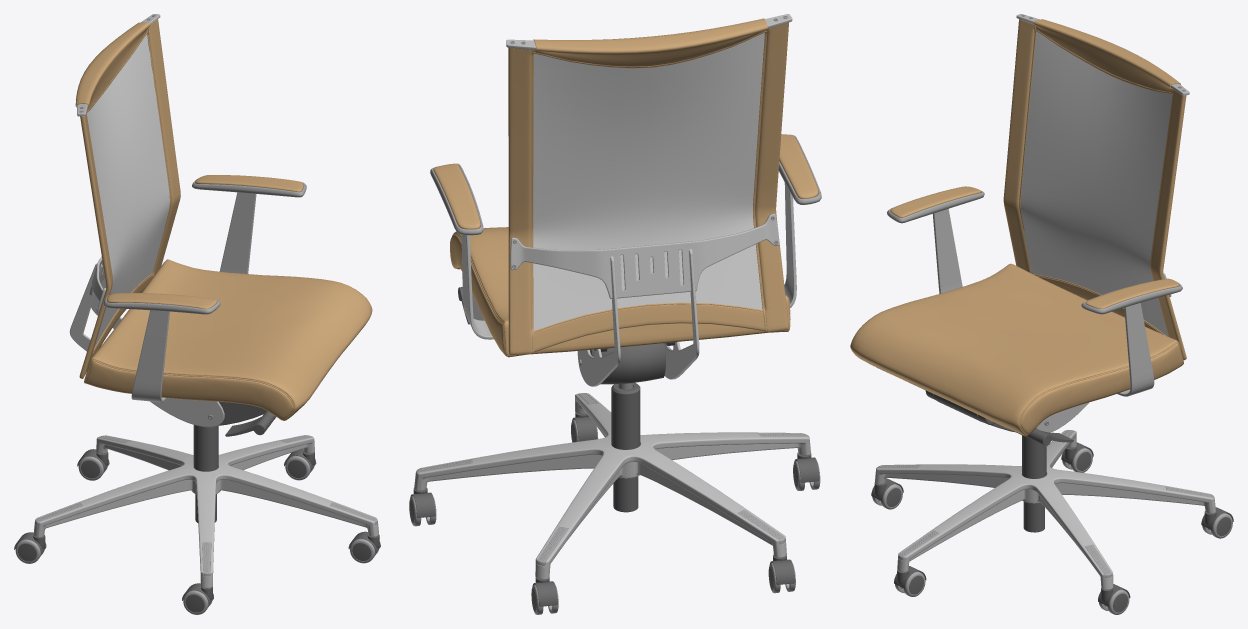
Rendered from demo.gltf.
3 views of the same model, side by side, from view 1: azimuth 30°, elevation 25°; view 2: azimuth 150°, elevation 25°; view 3: azimuth 270°, elevation 25° (orthographic). The views are drawn at different scales.
Parts seen in each view (by area): view 1: 办公椅07; view 2: 办公椅07; view 3: 办公椅07.
Boxes of the visible parts, x1,y1,x2,y2 form: 办公椅07: [14, 14, 380, 614]; 办公椅07: [409, 14, 821, 614]; 办公椅07: [850, 14, 1233, 614].
Size of the model in its own units: 0.7576 by 1.03 by 0.7672.
